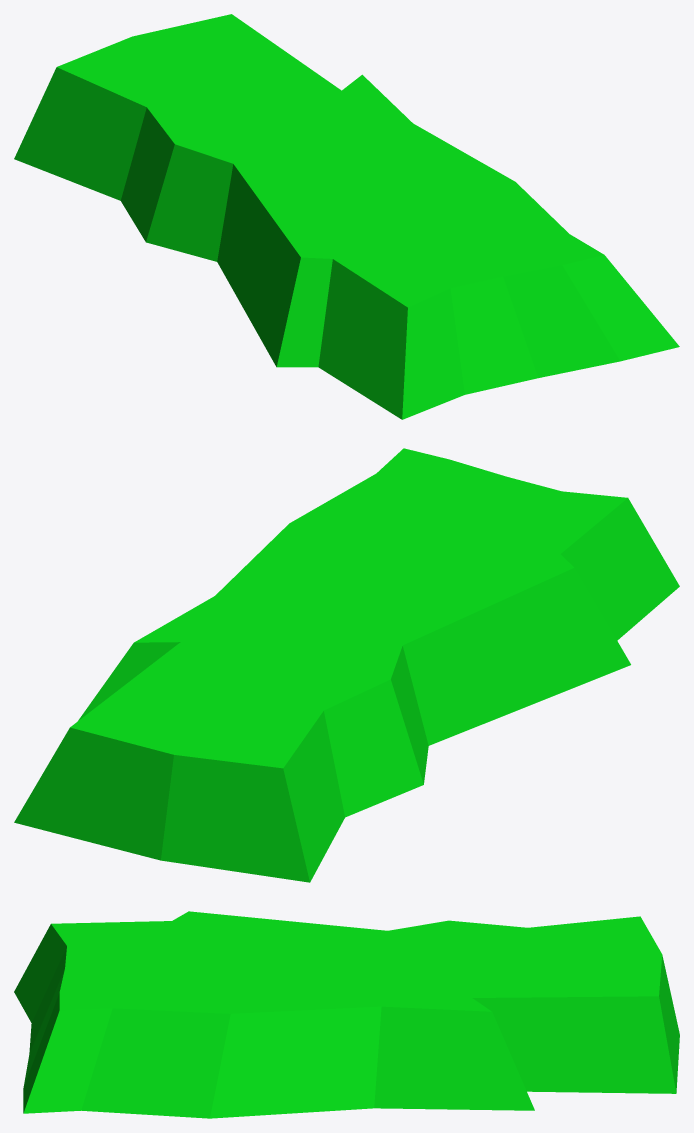
Rendered from magic_green.fbx.
3 views of the same model, one above another, from view 1: azimuth 30°, elevation 25°; view 2: azimuth 150°, elevation 25°; view 3: azimuth 270°, elevation 25° (orthographic). The views are drawn at different scales.
Parts seen in each view (by area): view 1: 실린더; view 2: 실린더; view 3: 실린더.
Part boxes in pixels (bbox=[...]): 실린더: bbox=[14, 14, 679, 419]; 실린더: bbox=[14, 448, 679, 882]; 실린더: bbox=[14, 911, 679, 1118].
Bounding box in the file's own units: 97.73 × 25.21 × 191.
